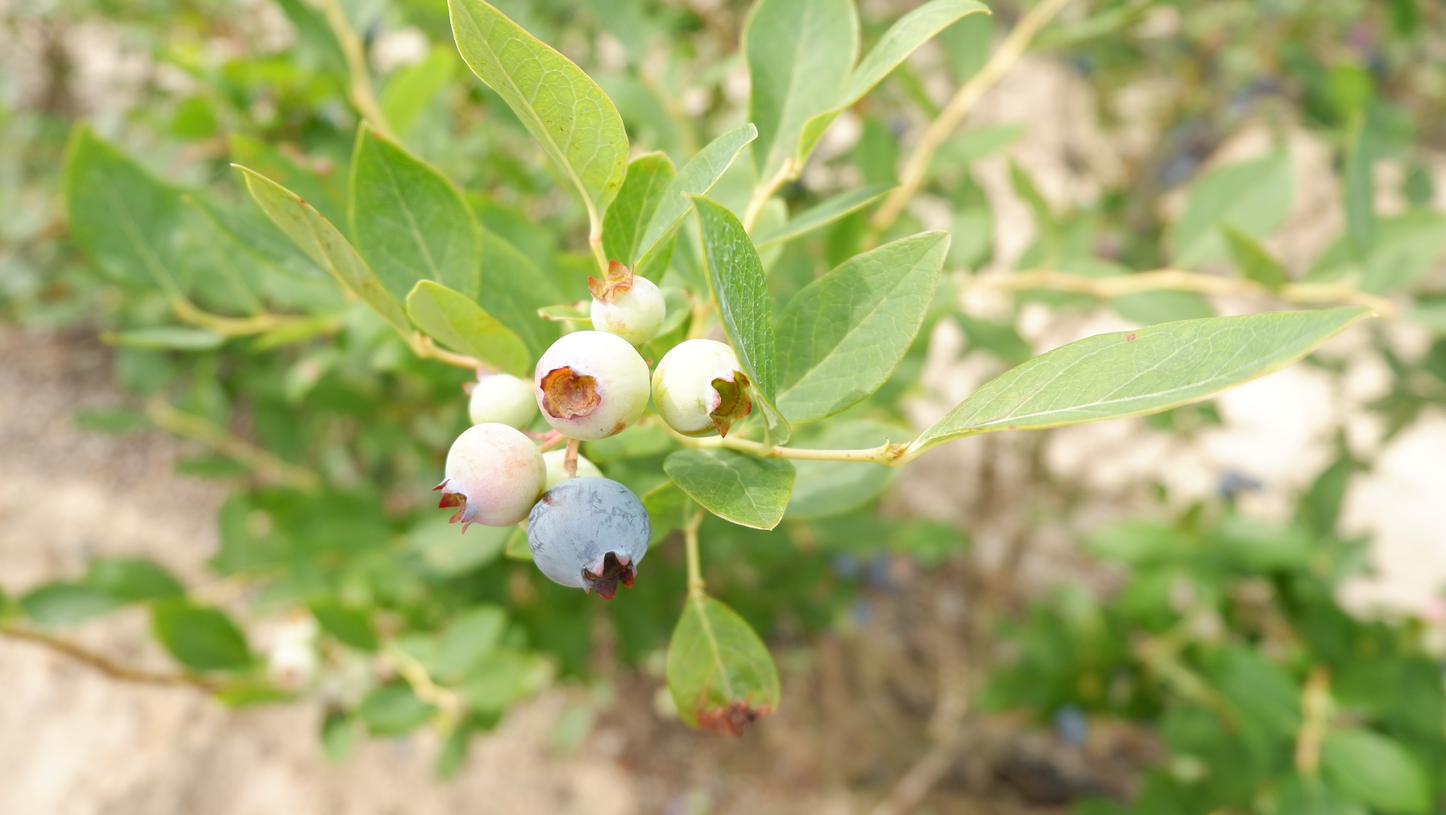Immature: (431, 423, 547, 537), (534, 329, 650, 442), (651, 340, 751, 440), (519, 447, 606, 534), (589, 261, 667, 344), (461, 364, 537, 429)
Mature: (526, 479, 652, 599)
